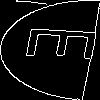E: (25, 25, 100, 63)
